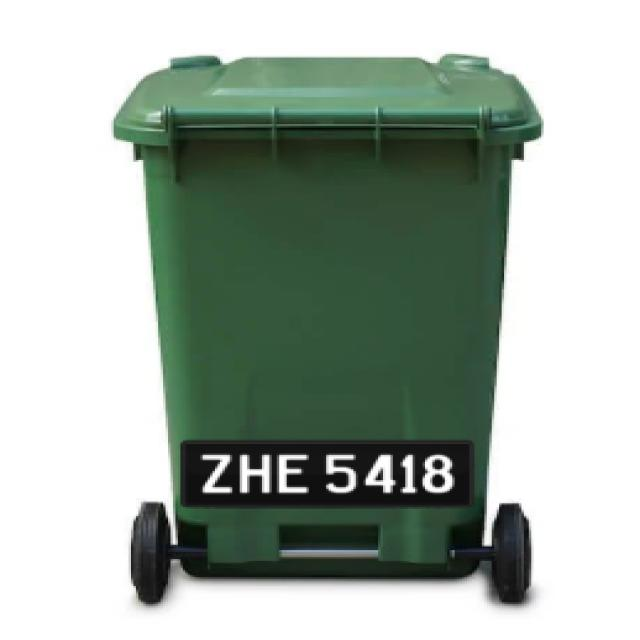bin_plate: (181, 438, 479, 507)
